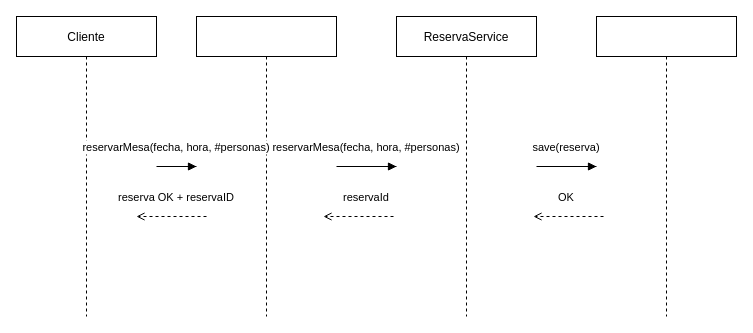
Some shapes in this 753 by 333 pixel diagram are drawn without their labels. Each missing label, with the box of its shape:
ReservaController: (196, 16, 336, 316)
ReservaRepository: (596, 16, 736, 316)
